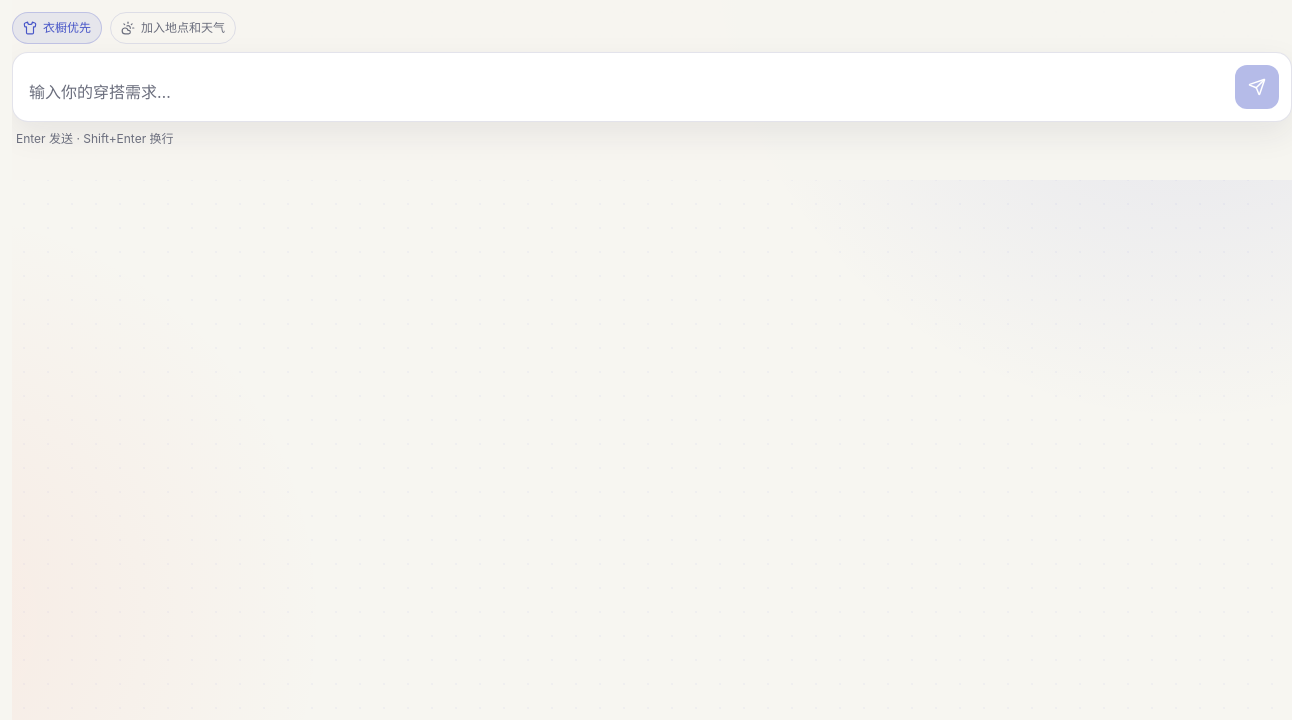
Test: PromptComposer › 点击天气卡片外部时关闭设置浮层
Click the button "加入地点和天气" at x=173, y=28, box [110, 12, 236, 44]
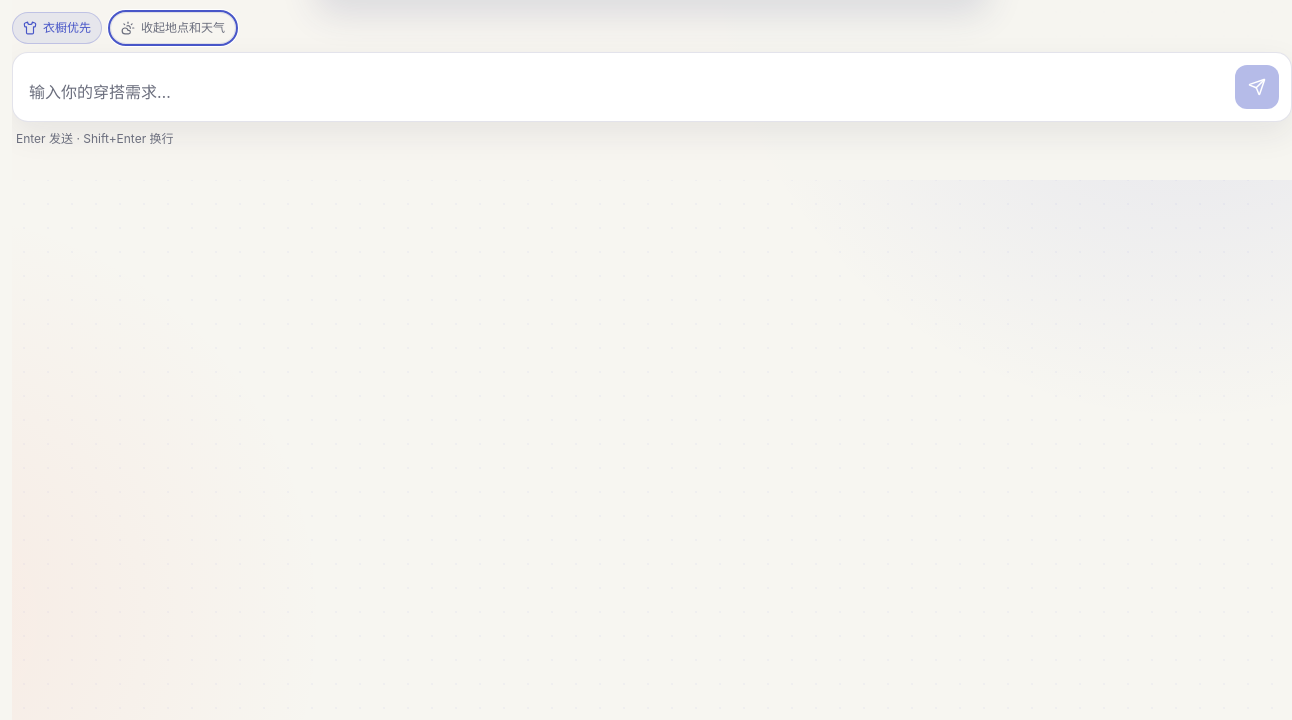
Click the element that starts with "衣橱优先" at x=652, y=360, box [12, 0, 1291, 719]
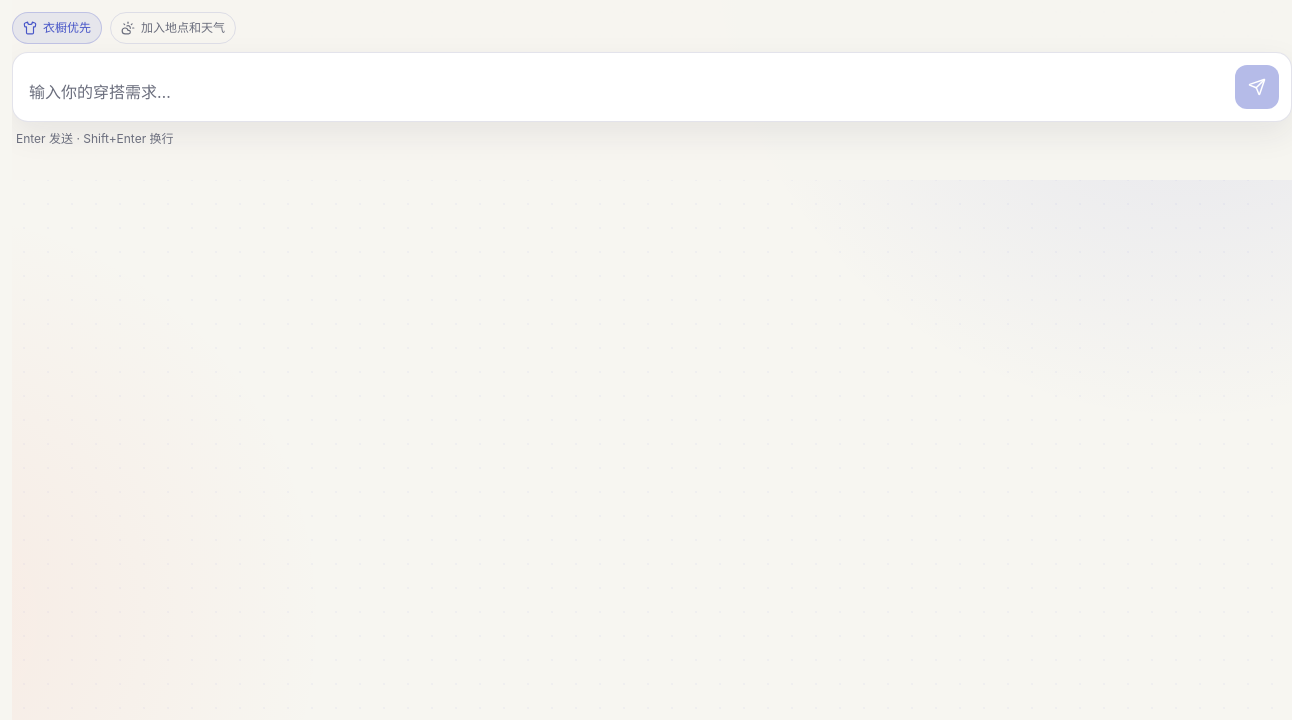
Check: the text "地点与天气" is gone
Check: the button "加入地点和天气" is shown, box [110, 12, 236, 44]
